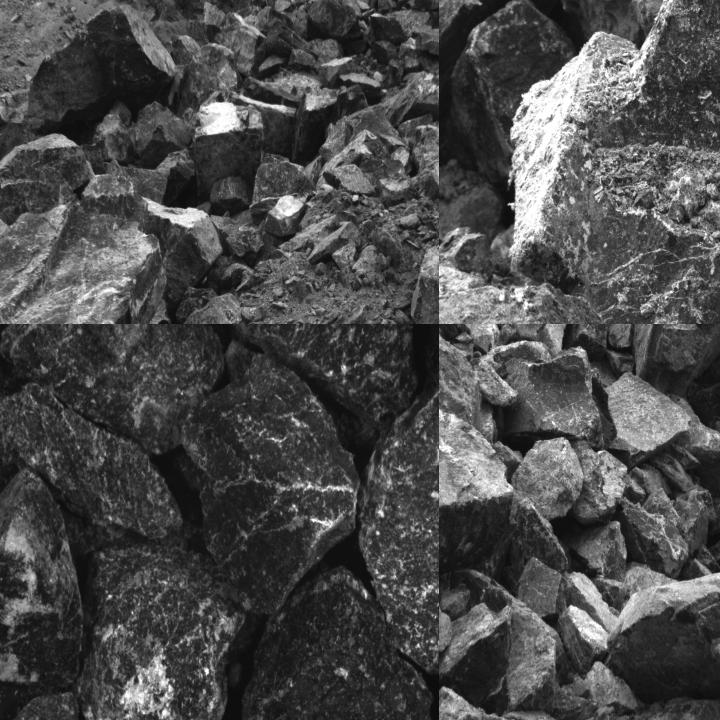stone: (508, 0, 719, 323), (178, 348, 360, 610), (71, 539, 250, 719), (3, 324, 224, 452), (240, 574, 435, 719), (0, 385, 183, 536), (357, 370, 438, 677), (444, 0, 577, 186), (214, 324, 419, 431), (0, 203, 172, 323), (23, 5, 176, 134), (0, 469, 80, 686), (439, 383, 510, 606), (609, 562, 719, 701), (133, 198, 222, 312), (439, 0, 517, 124), (507, 347, 600, 447), (0, 135, 93, 231), (439, 601, 515, 712), (170, 34, 238, 140), (606, 370, 692, 452), (194, 101, 261, 204), (571, 439, 651, 524), (632, 324, 719, 401), (510, 438, 583, 520), (622, 496, 688, 578), (439, 324, 484, 440), (79, 159, 167, 218), (509, 489, 565, 579), (250, 152, 316, 222), (64, 324, 183, 362), (230, 94, 298, 159), (137, 102, 190, 169), (213, 13, 265, 78), (559, 606, 610, 670), (519, 556, 567, 620), (439, 692, 547, 719), (369, 9, 438, 48), (159, 291, 241, 323), (306, 0, 365, 43), (462, 324, 566, 348), (409, 246, 438, 323), (155, 149, 194, 206), (550, 680, 605, 719), (643, 693, 719, 719), (210, 176, 254, 216), (401, 78, 438, 125), (322, 165, 376, 196), (264, 24, 311, 57), (568, 324, 608, 362), (156, 64, 187, 113), (176, 286, 218, 322), (399, 112, 433, 154), (412, 125, 438, 175), (417, 158, 438, 217), (254, 7, 292, 35), (606, 324, 638, 349), (355, 0, 371, 12)
